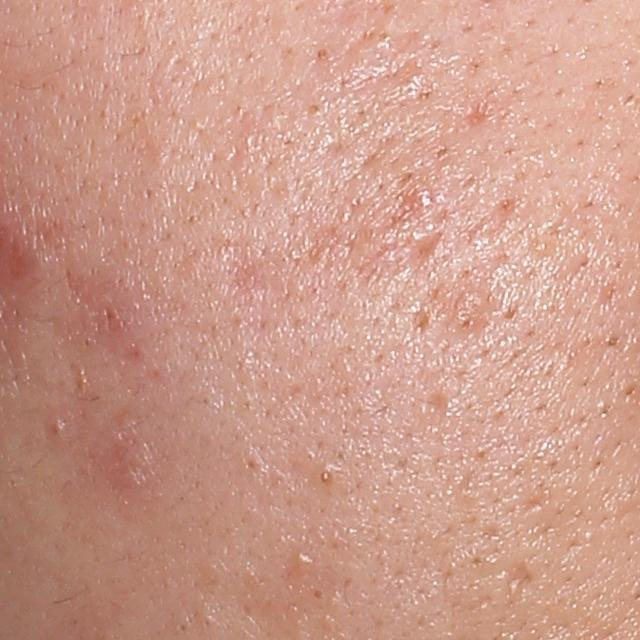atrophic_scar: (420, 388, 453, 431), (505, 562, 537, 606), (409, 302, 432, 340)
comedo: (294, 553, 317, 573), (317, 467, 336, 490), (312, 587, 327, 602)
papule: (106, 432, 156, 488)
